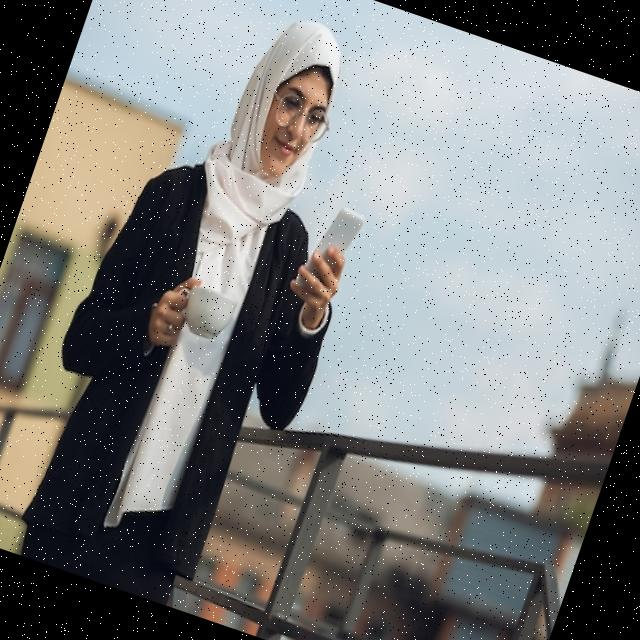Person: (0, 0, 422, 626)
